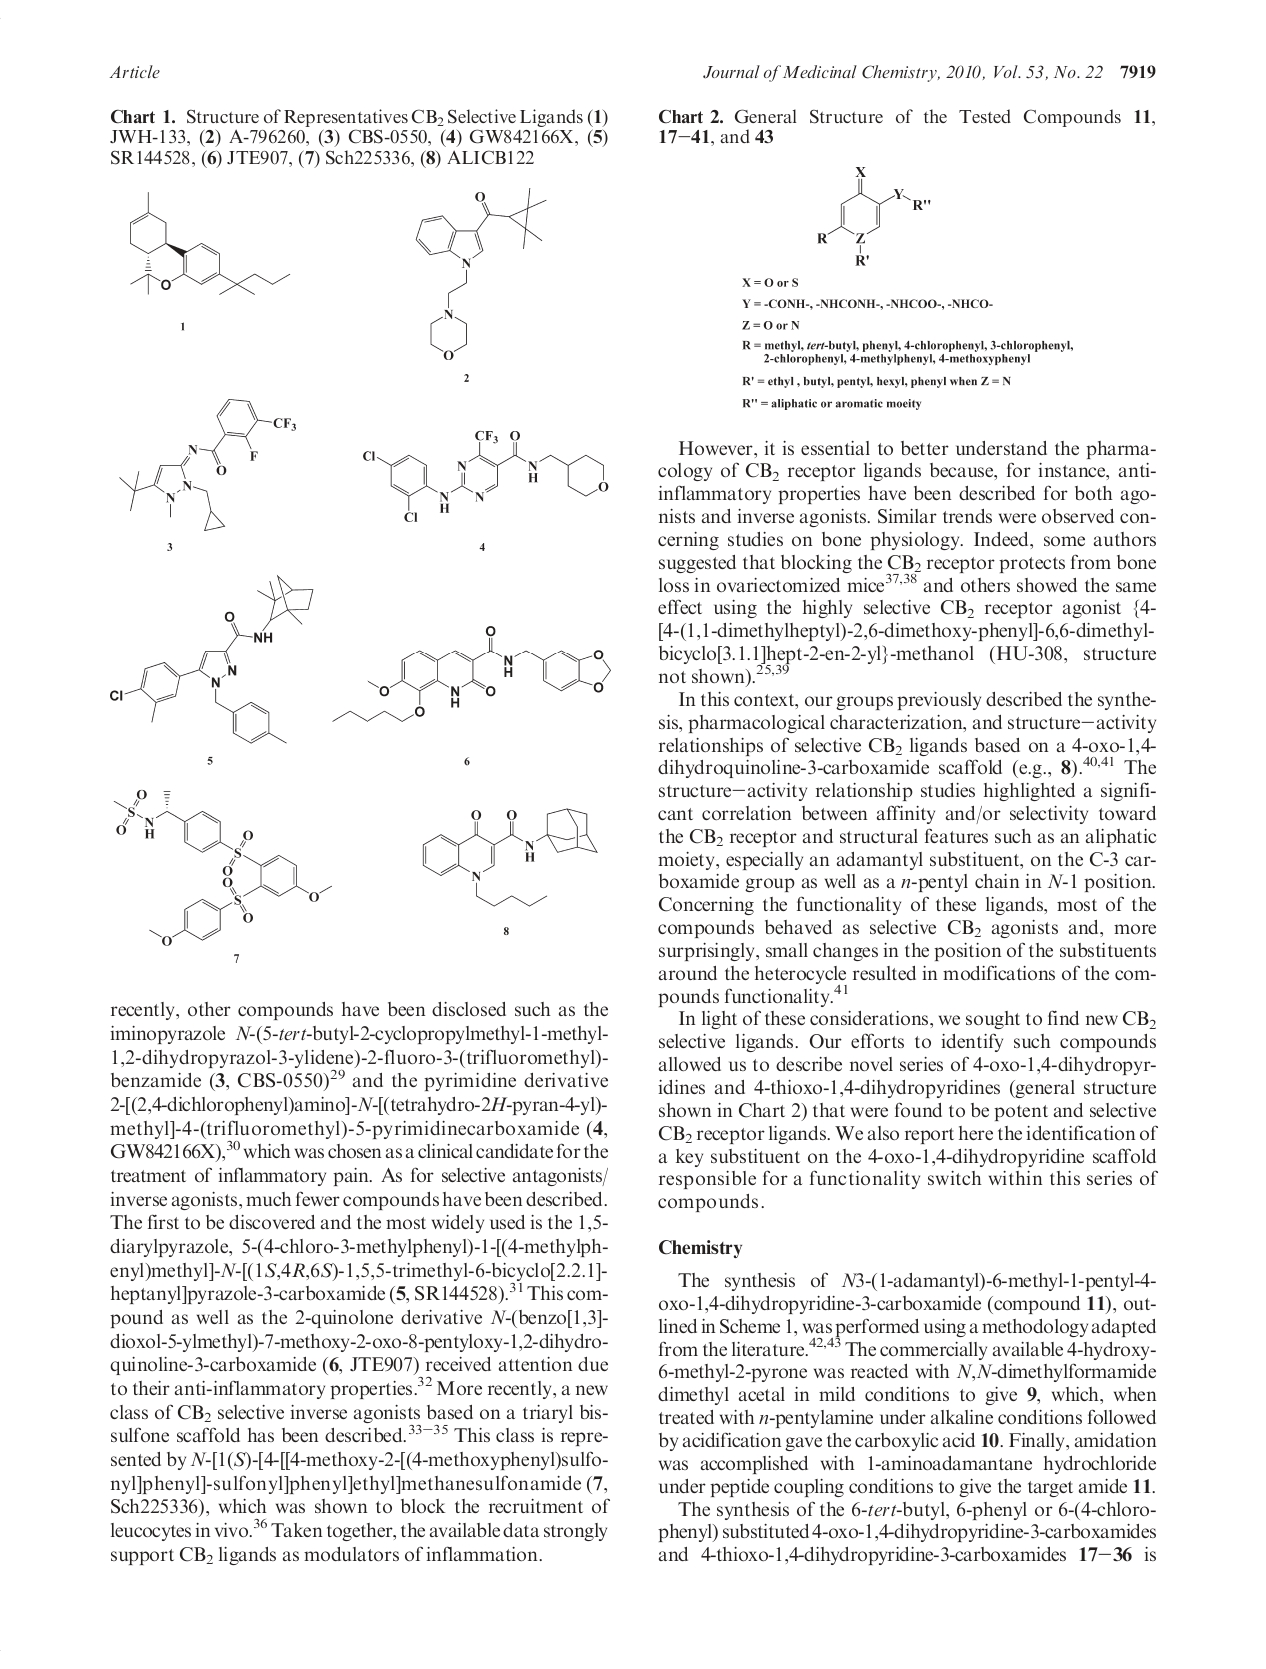exist_molecular: (108, 571, 319, 746), (113, 786, 334, 948), (332, 626, 614, 729), (116, 398, 301, 532), (360, 430, 610, 527), (415, 186, 551, 362), (422, 803, 598, 910), (128, 188, 291, 301), (813, 164, 934, 247)
